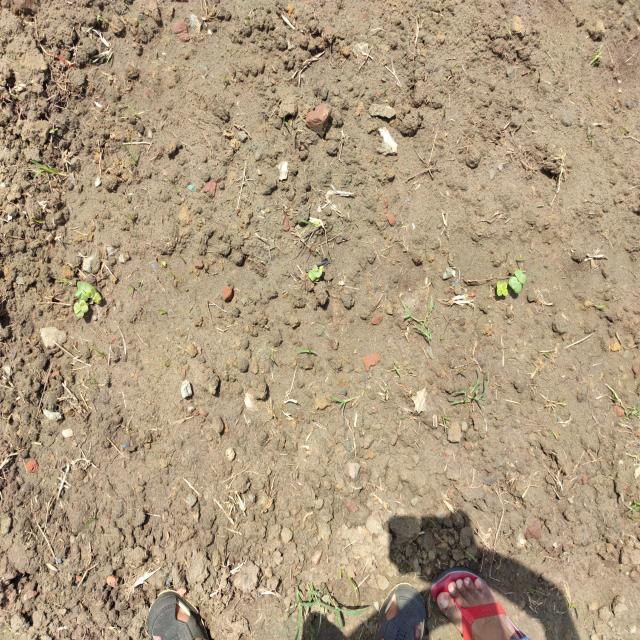seedling: (76, 281, 93, 301), (509, 277, 522, 294), (514, 270, 526, 284), (497, 281, 508, 296), (74, 302, 84, 318), (86, 286, 97, 298), (92, 292, 102, 304), (315, 266, 323, 281), (79, 300, 88, 312), (312, 265, 321, 277), (308, 270, 316, 281)
